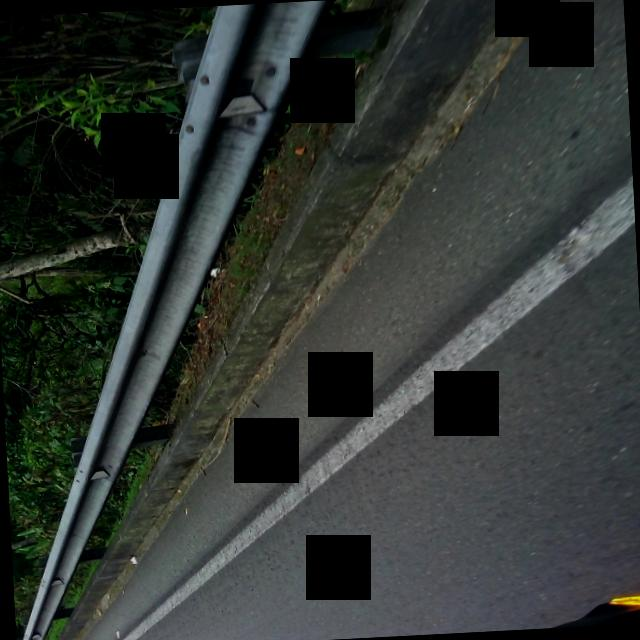DITCH: (24, 0, 640, 640), (28, 0, 640, 640), (51, 0, 640, 640)
